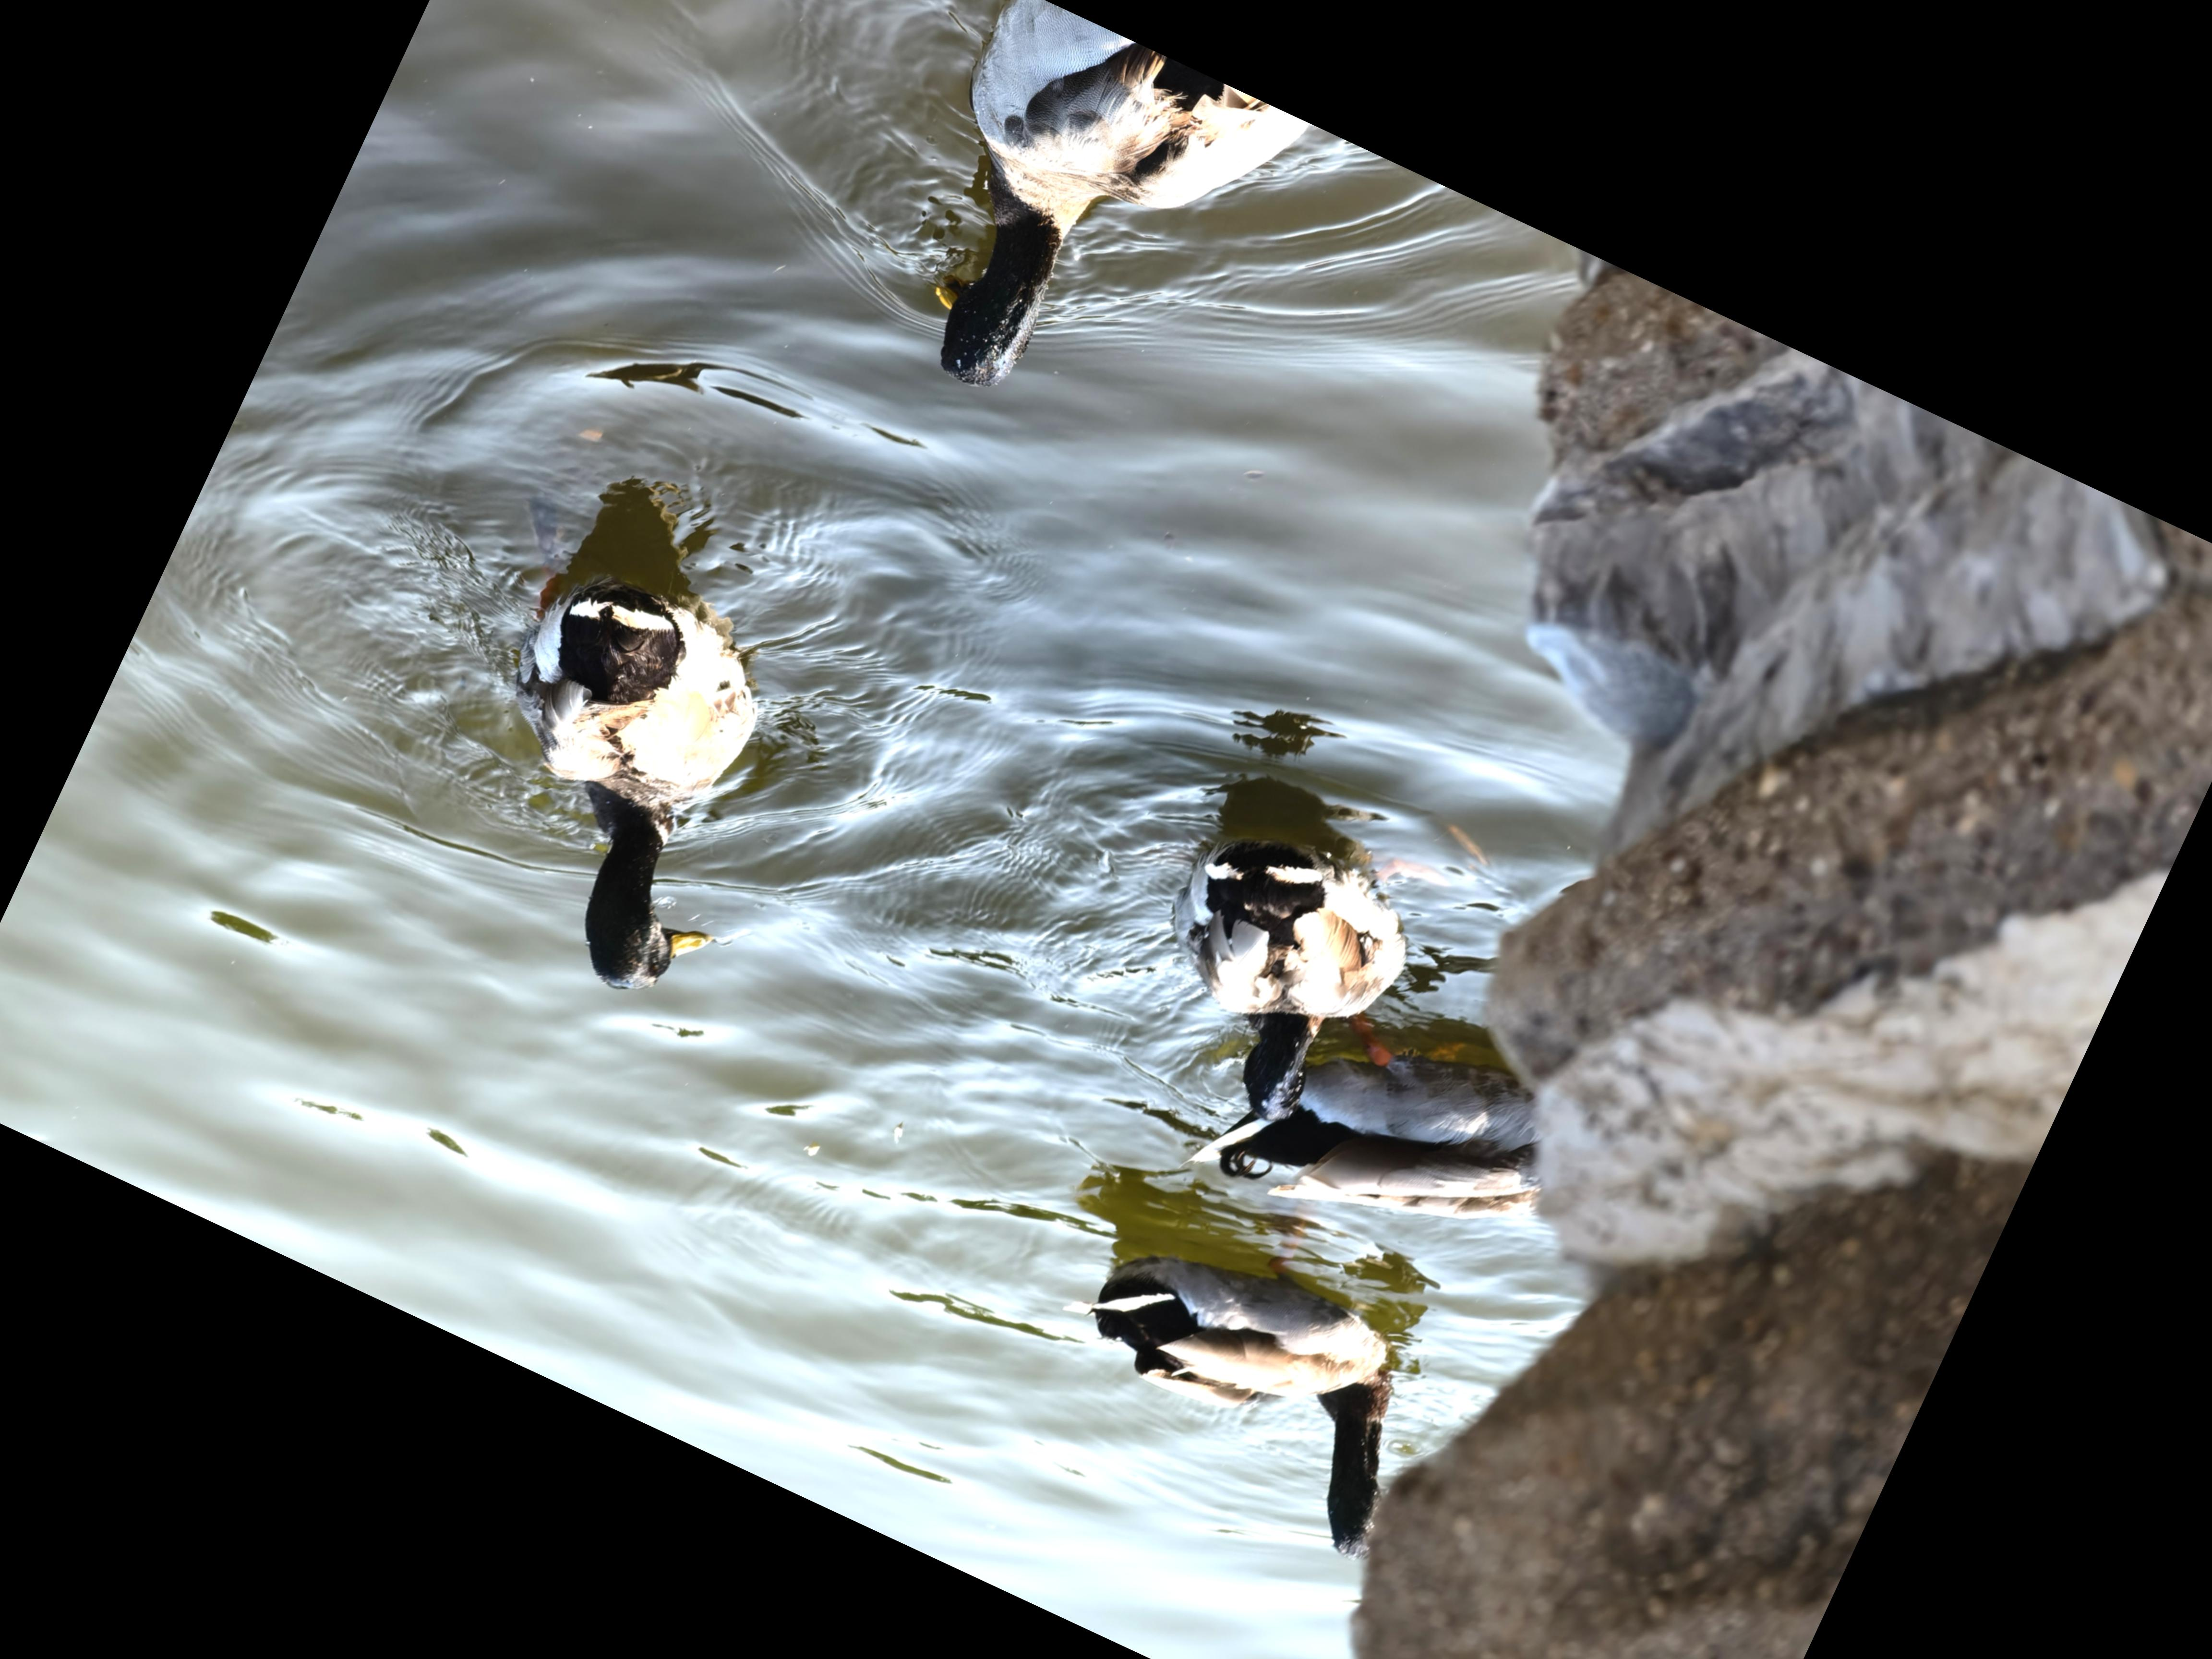duck: (371, 497, 862, 1032), (824, 0, 1317, 490), (1001, 1199, 1467, 1570), (1167, 978, 1583, 1323), (1094, 798, 1420, 1147)
